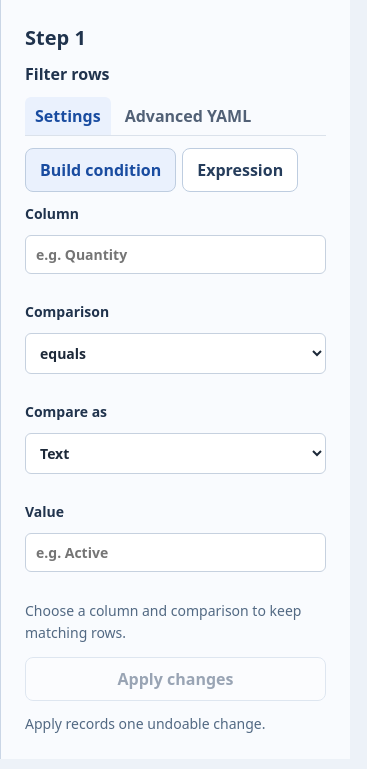
it: requires a column before applying a built filter condition
Type "active" into the field labelled "Value" at {"x": 176, "y": 552}, box x1=25 y1=533 x2=326 y2=572
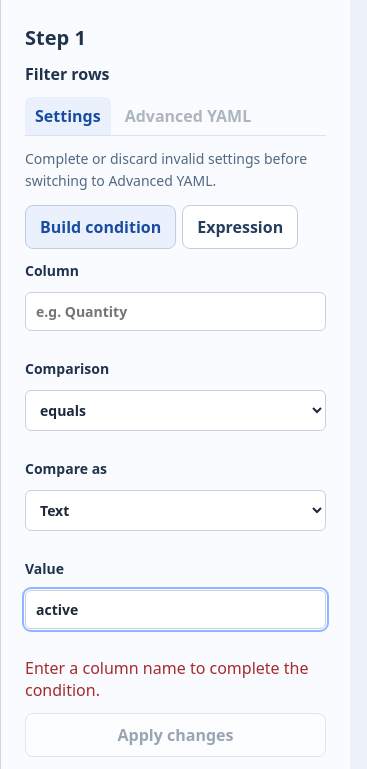
Check: the button "Apply changes" is disabled, box x1=25 y1=713 x2=326 y2=757
Type "Status" into the field labelled "Column" at {"x": 176, "y": 311}, box x1=25 y1=292 x2=326 y2=331
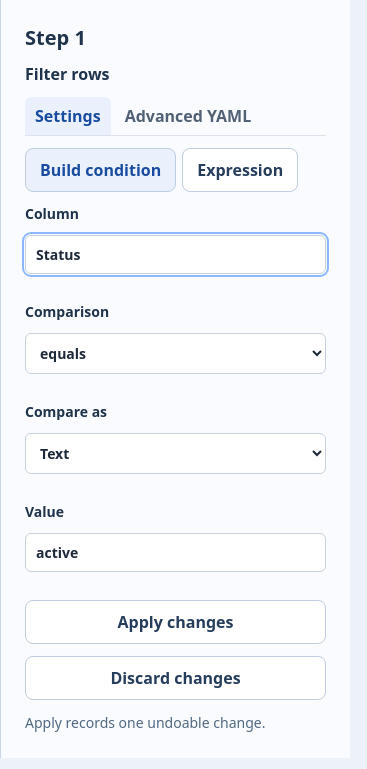
Check: the button "Apply changes" is enabled, box x1=25 y1=600 x2=326 y2=644
